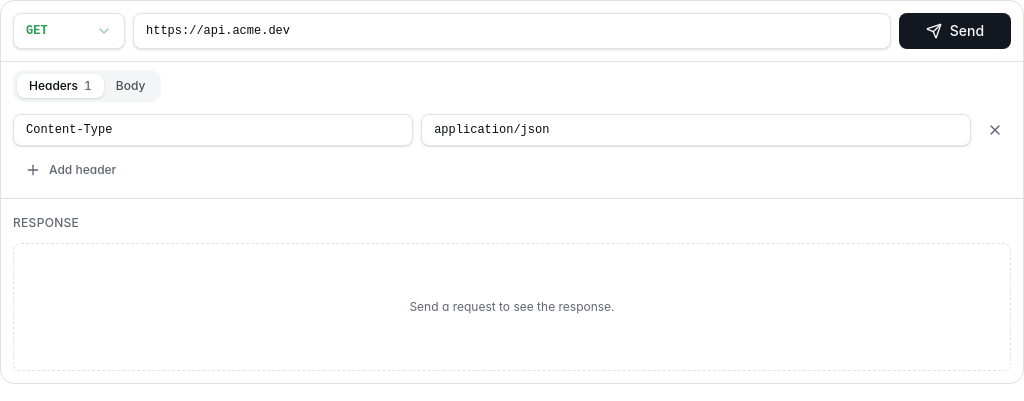
ApiRequestPlayground › shows an error state when the request rejects
This screenshot has width=1024, height=401.
Click the button "Send" at coordinates (955, 31), box x1=899 y1=13 x2=1011 y2=49
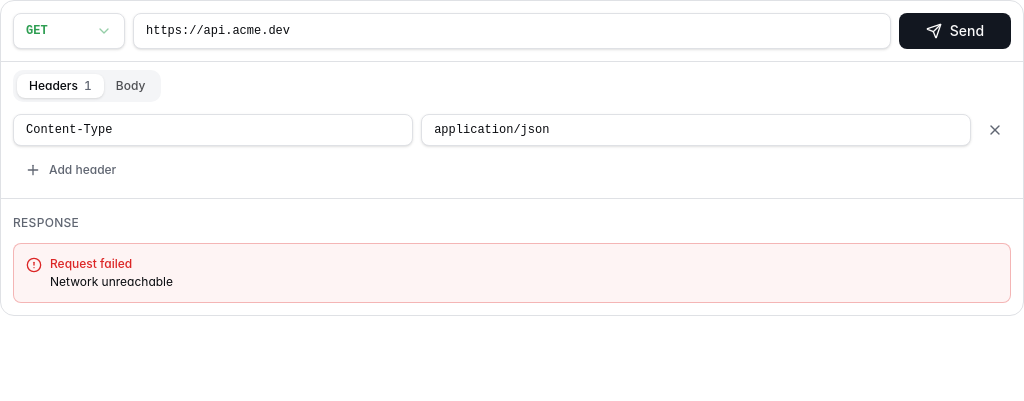
Expected: the message shows "Request failed", x1=50 y1=256 x2=132 y2=271
Expected: the message shows "Network unreachable", x1=50 y1=274 x2=173 y2=289
